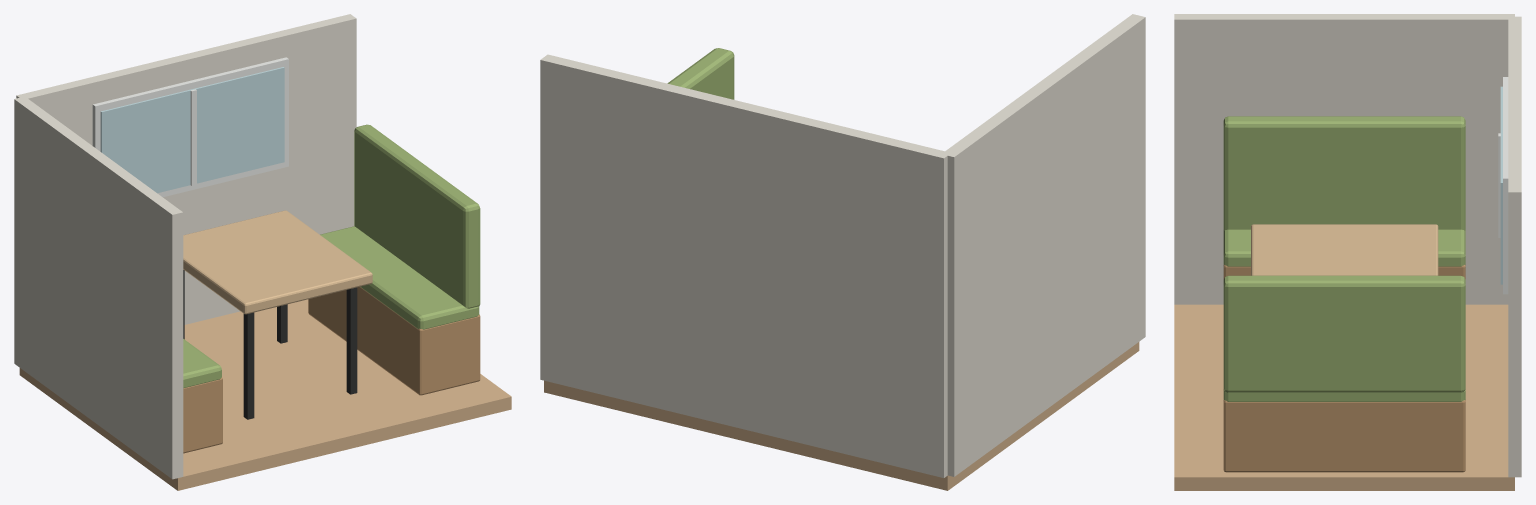
Rendered from room3.glb.
3 views of the same model, side by side, from view 1: azimuth 30°, elevation 25°; view 2: azimuth 150°, elevation 25°; view 3: azimuth 270°, elevation 25° (orthographic). The views are drawn at different scales.
Parts seen in each view (by area): view 1: Left wall, Floor, Back wall, Window glass, Green backrest.001, Oak table, Bench base.001, Green seat.001, Window surround, Bench base, Table leg.002, Table leg (+2 smaller); view 2: Back wall, Left wall, Floor, Green backrest.001; view 3: Left wall, Green backrest.001, Green backrest, Floor, Bench base.001, Oak table, Back wall, Green seat.001, Green seat, Window surround, Window glass, Bench base.
Boxes of the visible parts, x1,y1,x2,y2 form: Left wall: (14,96,183,479); Floor: (19,299,511,490); Back wall: (16,14,356,324); Window glass: (100,67,284,193); Green backrest.001: (354,124,480,308); Oak table: (183,210,372,314); Bench base.001: (308,286,480,395); Green seat.001: (320,226,479,329); Window surround: (92,57,288,197); Bench base: (183,377,222,453); Table leg.002: (346,287,357,394); Table leg: (243,312,254,419); Back wall: (540,54,950,477); Left wall: (942,14,1145,476); Floor: (544,342,1139,490); Green backrest.001: (667,48,734,99); Left wall: (1174,14,1514,304); Green backrest.001: (1223,275,1465,392); Green backrest: (1223,116,1465,230); Floor: (1174,304,1514,490); Bench base.001: (1223,400,1465,472); Oak table: (1251,224,1438,275); Back wall: (1508,16,1521,477); Green seat.001: (1223,389,1465,401); Green seat: (1223,229,1465,266); Window surround: (1503,77,1508,294); Window glass: (1500,86,1502,284); Bench base: (1223,264,1465,279).
Bounding box in the file's own units: 2.22 × 1.73 × 1.82.
